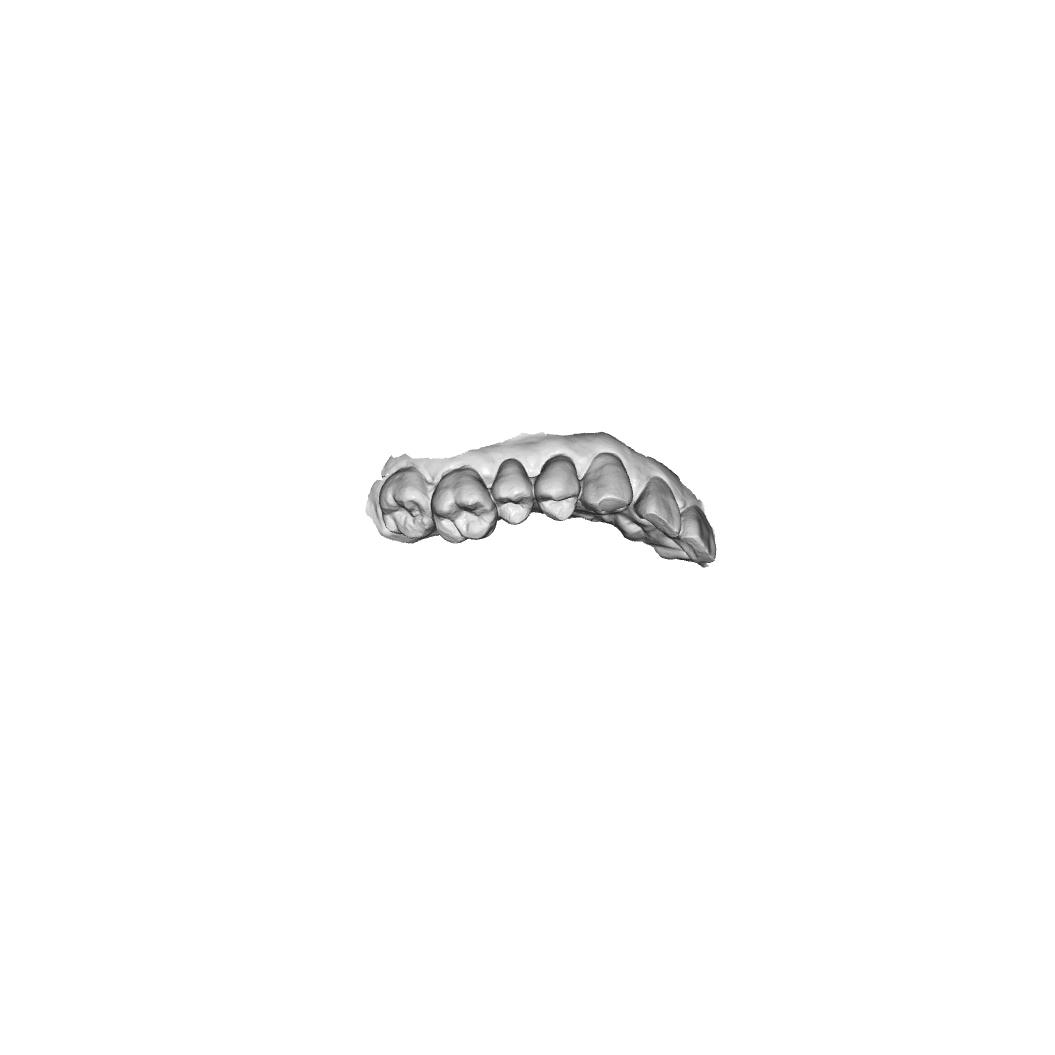canine: (579, 450, 634, 516)
incisor: (633, 475, 682, 540), (678, 504, 717, 565)
molar: (430, 467, 499, 545), (377, 465, 436, 542)
premolar: (533, 453, 582, 523), (489, 456, 535, 526)
